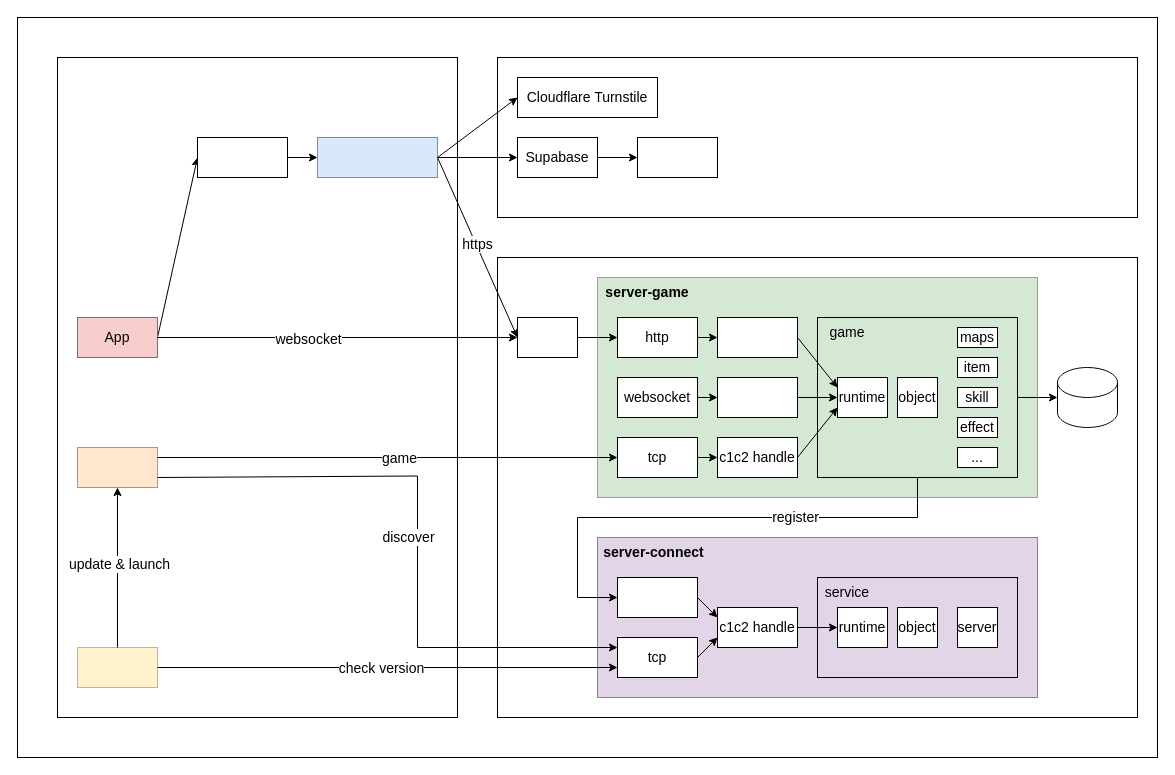
The diagram is 1175 pixels wide and 775 high, and some of its shapes have lost their labels. The centre of each missing label's shape, as x and y in pixels:
"caddy" belongs at (x=547, y=337).
"DB" belongs at (x=1087, y=397).
"http handle" belongs at (x=757, y=337).
"main.exe" belongs at (x=117, y=467).
"mu.exe" belongs at (x=117, y=667).
"Resend" belongs at (x=677, y=157).
"server-web-next" belongs at (x=377, y=157).
"udp" belongs at (x=657, y=597).
"Vercel CDN" belongs at (x=242, y=157).
"ws handle" belongs at (x=757, y=397).
